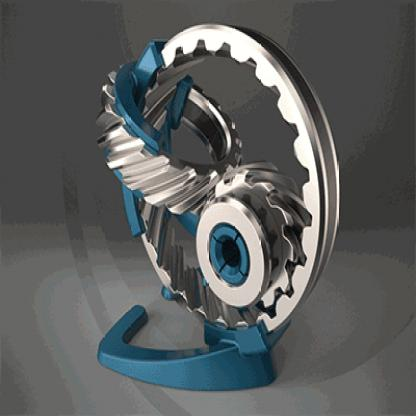FOD: (96, 60, 243, 220)
